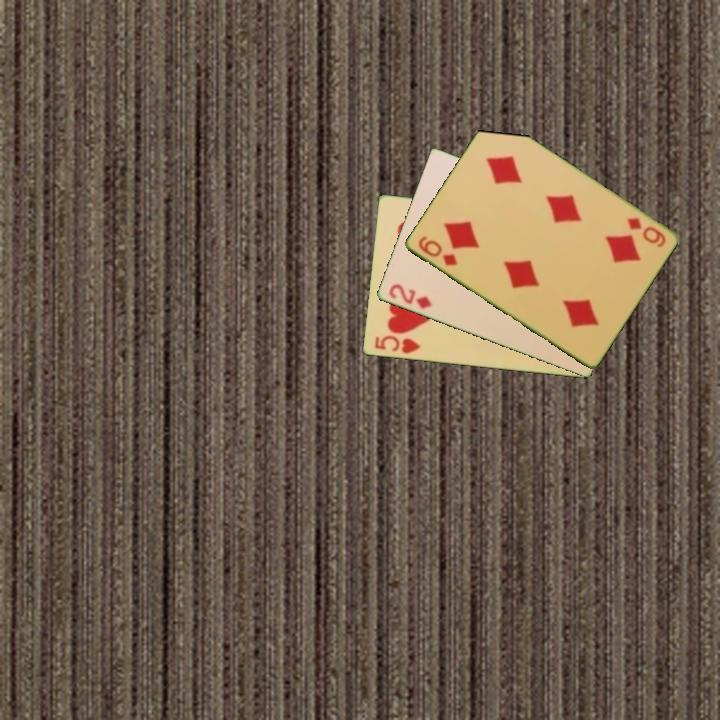2d: (385, 280, 434, 312)
5h: (371, 332, 423, 357)
6d: (414, 232, 460, 269), (623, 214, 668, 250)
